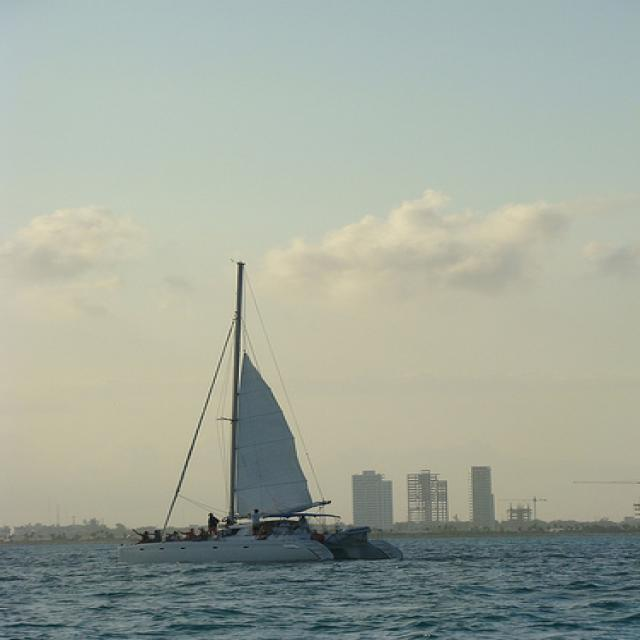Ship: (108, 255, 403, 569)
